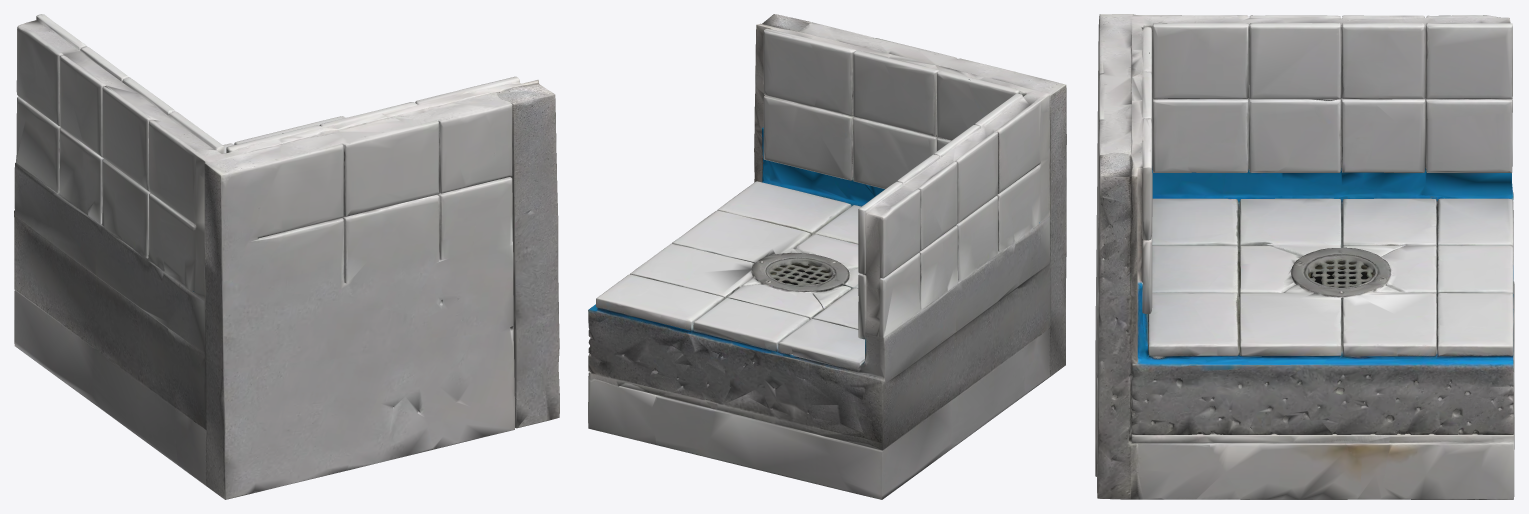
The model's file is bathroom-leak.glb.
3 views of the same model, side by side, from view 1: azimuth 30°, elevation 25°; view 2: azimuth 150°, elevation 25°; view 3: azimuth 270°, elevation 25° (orthographic). The views are drawn at different scales.
Visible parts, largest first — view 1: tripo_node_2d959244-73ee-4f8f-92b8-7ce2d5b3e8d6; view 2: tripo_node_2d959244-73ee-4f8f-92b8-7ce2d5b3e8d6; view 3: tripo_node_2d959244-73ee-4f8f-92b8-7ce2d5b3e8d6.
Part boxes in pixels (x1,y1,x2,y2): tripo_node_2d959244-73ee-4f8f-92b8-7ce2d5b3e8d6: (14,14,559,499); tripo_node_2d959244-73ee-4f8f-92b8-7ce2d5b3e8d6: (588,14,1066,499); tripo_node_2d959244-73ee-4f8f-92b8-7ce2d5b3e8d6: (1095,14,1514,499).
Size of the model in its own units: 0.9287 by 0.8544 by 0.9997.
Materials: 1 (1 with a texture image).
